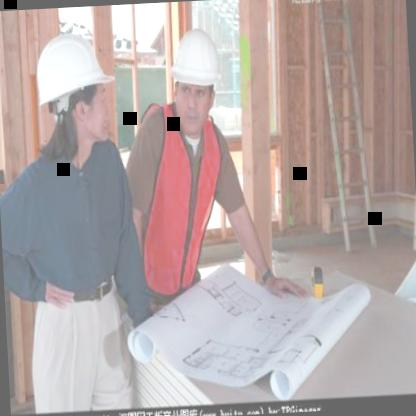helmet: (30, 18, 118, 160), (166, 18, 228, 137)
